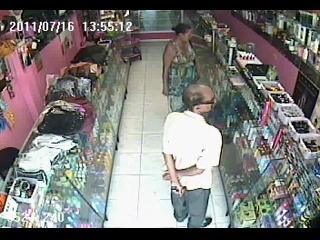Normal: (162, 83, 222, 227), (162, 22, 200, 112)
